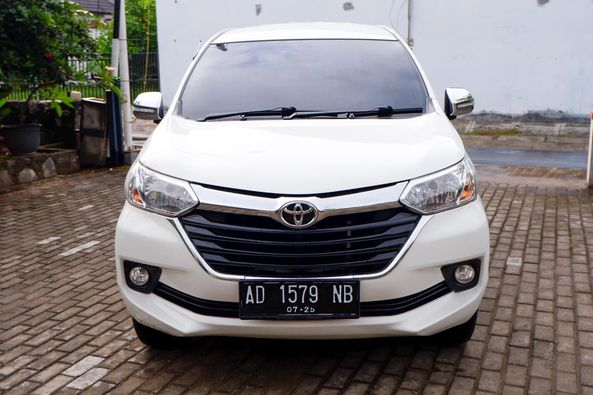plate: (238, 279, 363, 316)
